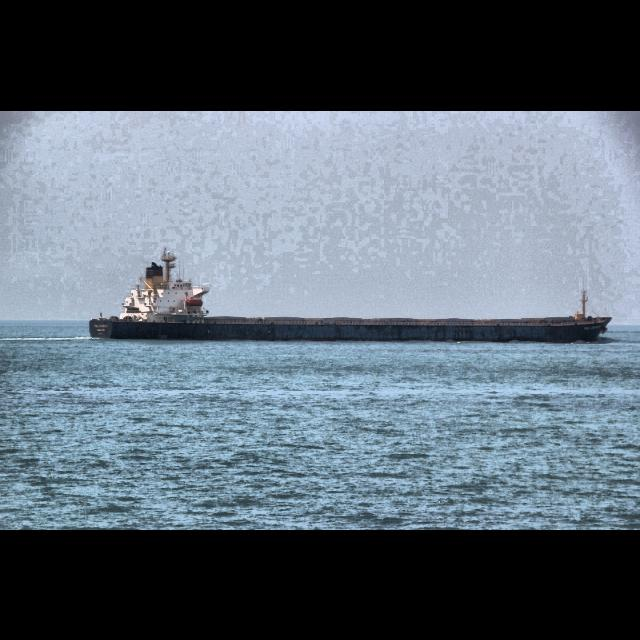bulk_carrier: (89, 245, 613, 342)
